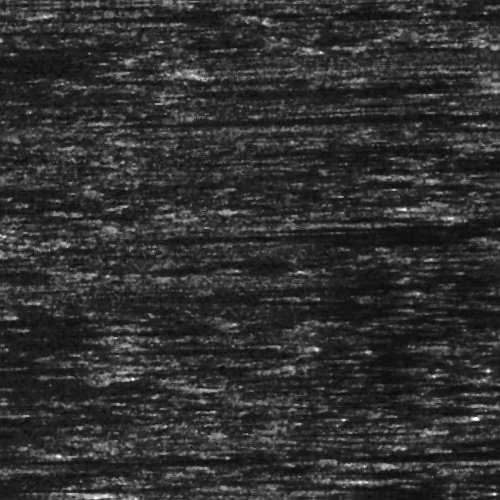object: (340, 171, 413, 180), (0, 4, 71, 13), (443, 87, 500, 96), (464, 43, 500, 56), (393, 216, 456, 223), (0, 26, 37, 37), (471, 113, 500, 126), (453, 237, 494, 246), (464, 145, 500, 154), (159, 75, 170, 102), (247, 341, 278, 350), (46, 264, 99, 269), (481, 221, 500, 230), (116, 58, 127, 73), (182, 385, 213, 388), (414, 432, 435, 435), (35, 486, 56, 489)
shadow: (214, 226, 500, 245), (189, 113, 500, 126), (30, 75, 165, 102), (322, 11, 500, 24), (239, 87, 484, 96), (0, 58, 121, 73), (299, 145, 484, 154), (366, 43, 484, 56), (247, 171, 376, 180), (133, 341, 262, 350), (350, 237, 473, 246), (298, 216, 424, 223), (467, 450, 500, 463), (68, 385, 197, 388), (458, 167, 500, 176), (430, 219, 500, 224), (4, 264, 72, 269), (473, 221, 500, 230), (466, 442, 500, 449), (364, 432, 424, 435), (0, 486, 46, 489)
